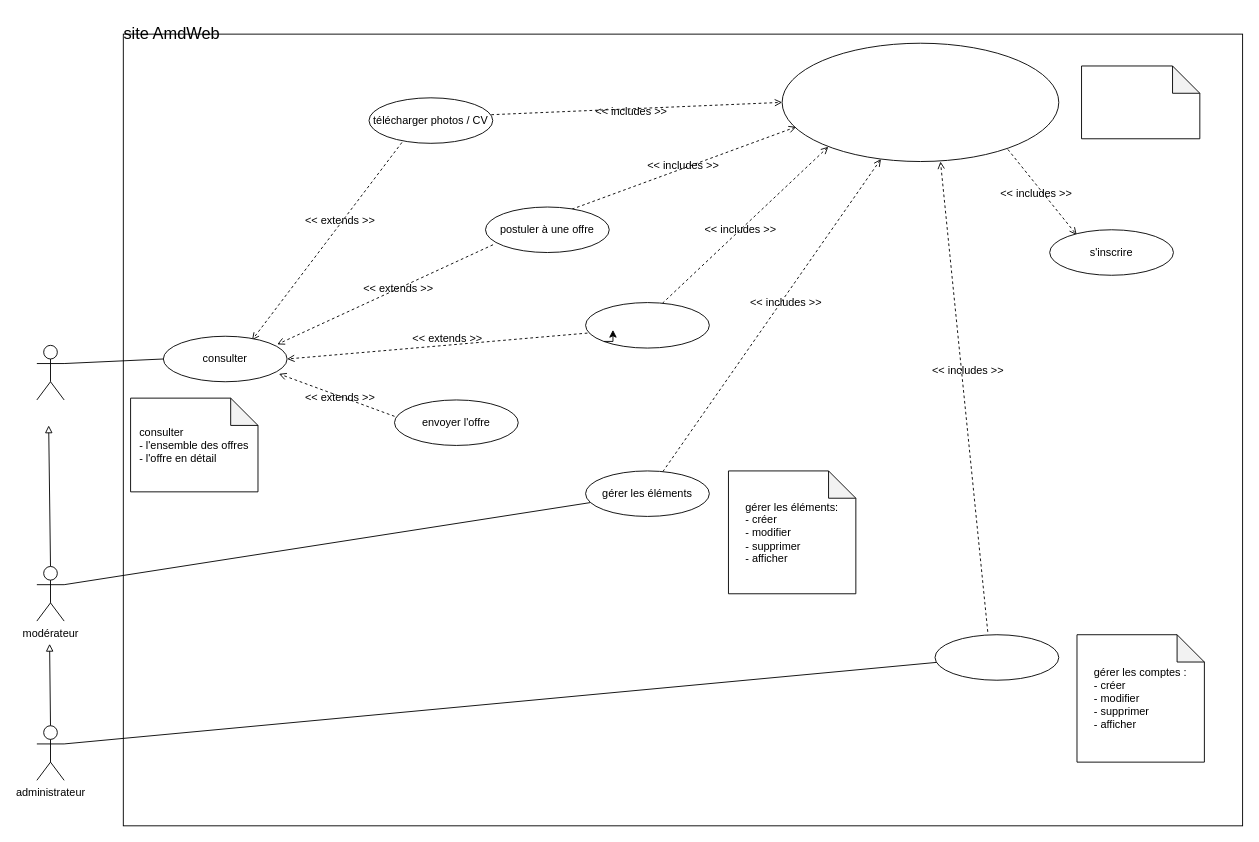
The diagram is 1259 pixels wide and 842 high, and some of its shapes have lost their labels. Here are the shapes that lost their labels. From the top down, the centre of each, then its label:
At point (920, 102): "s'authentifier".
At point (1140, 102): "s'authentier - se connecter - se déconnecter".
At point (647, 325): "gérer l'offre (pourvue ou pas)".
At point (50, 372): "utilisateur".
At point (996, 657): "gérer les comptes".
